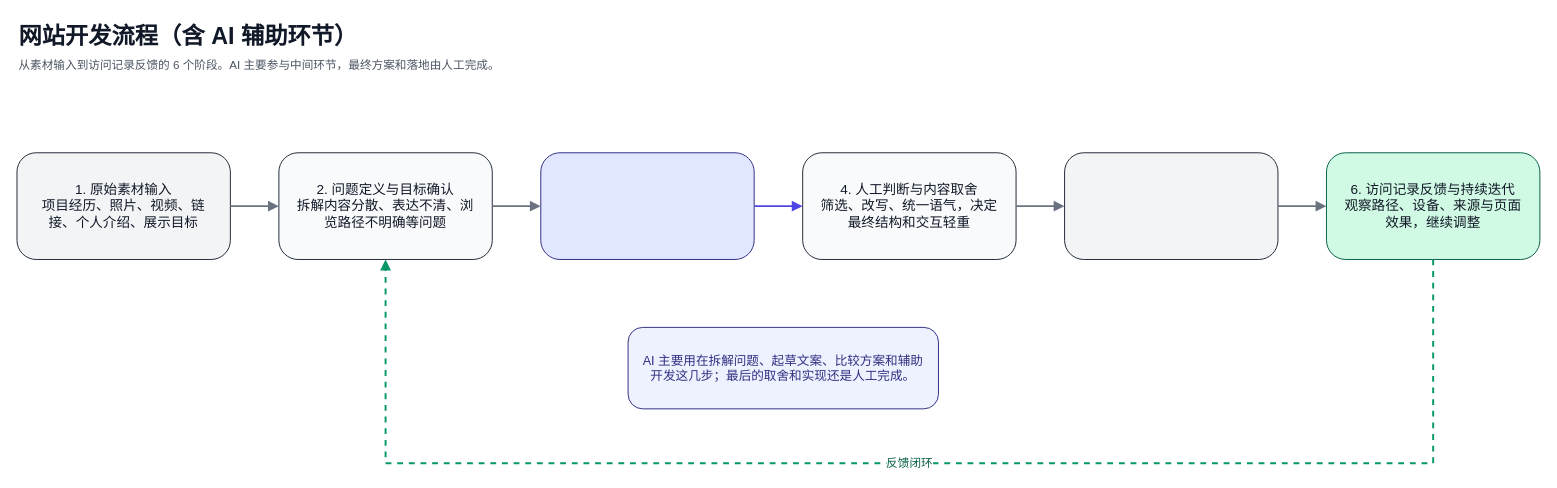
This 1557x488 diagram has some shape labels left out. The centre of each missing label's shape, as x and y in pixels:
"3. AI 辅助生成与方案比较 栏目拆解、文案草稿、交互思路、页面结构建议" goes at point (647, 205).
"5. 页面实现与上线部署 前端实现、联调、访问记录接入、上线发布" goes at point (1171, 205).
